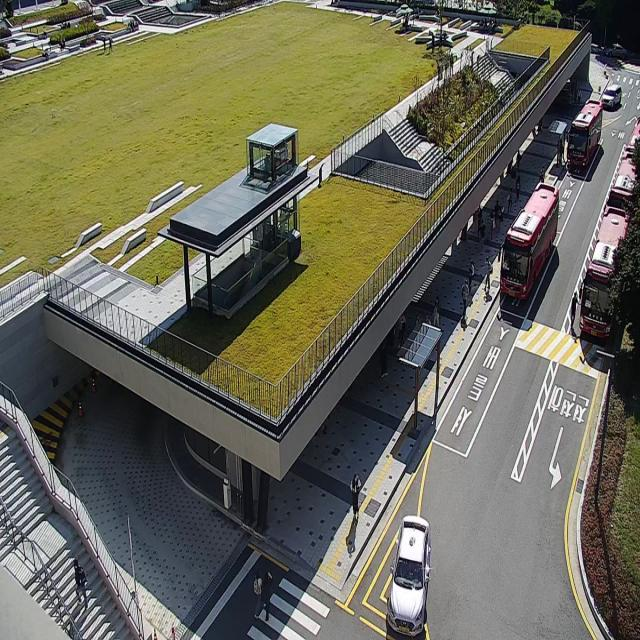queue: (413, 322, 443, 436)
